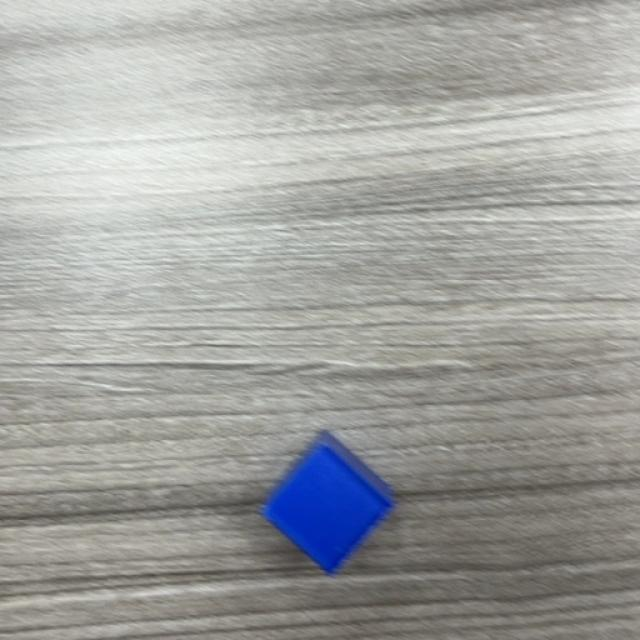Azul: (259, 431, 398, 576)
